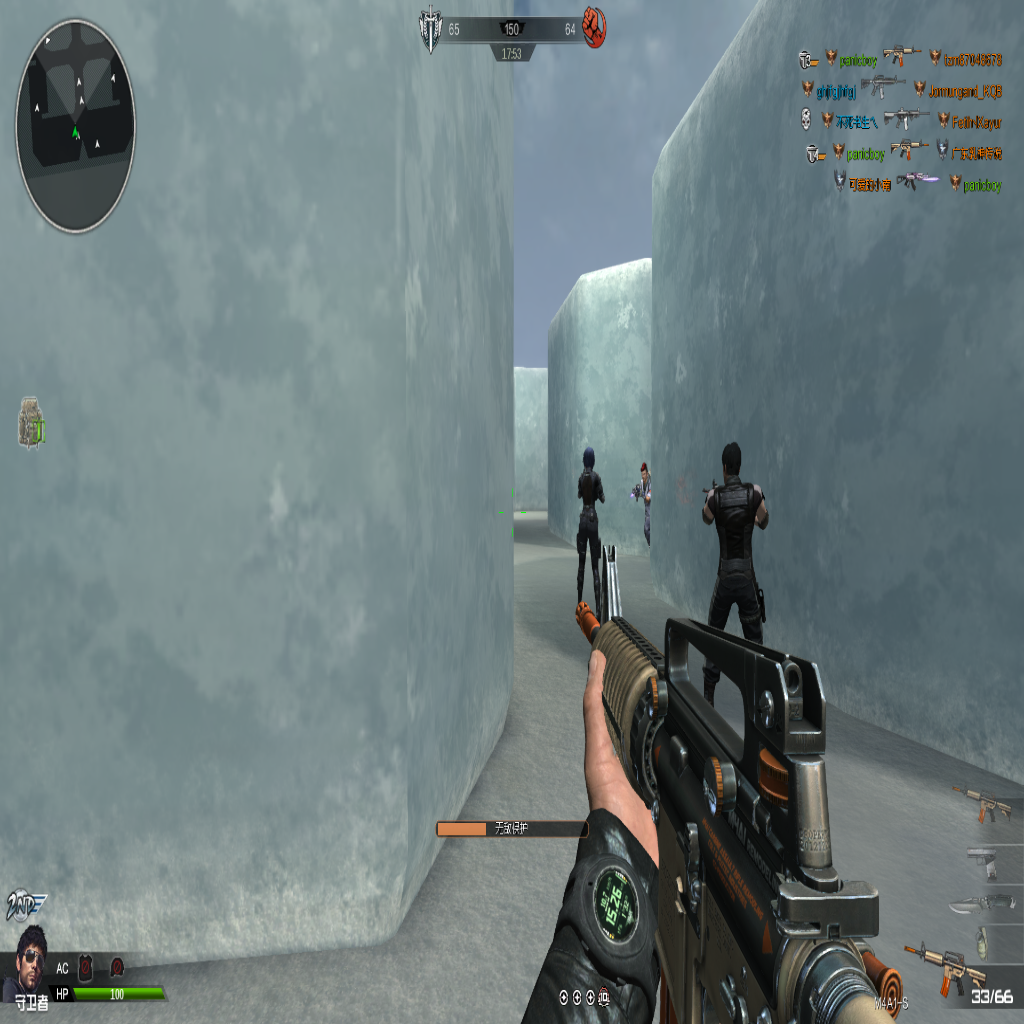ct: (698, 441, 769, 660), (575, 443, 605, 615)
tt: (637, 462, 651, 542)
